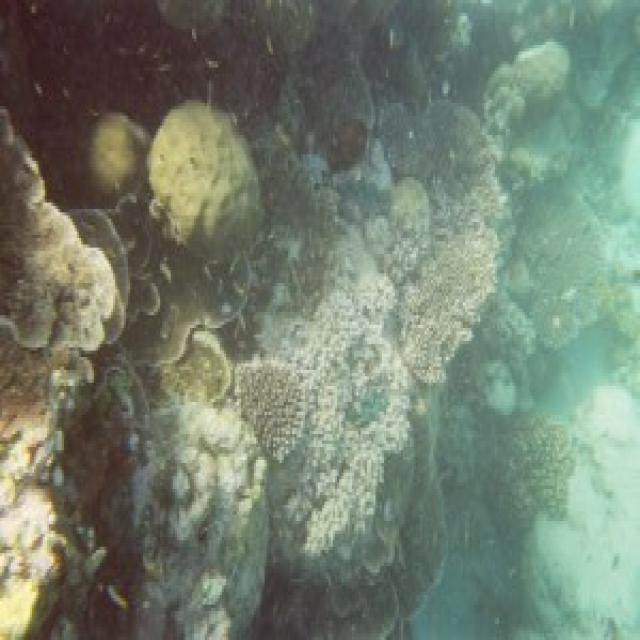Bleached: (242, 274, 413, 583), (389, 101, 507, 384), (133, 403, 266, 638), (487, 40, 630, 233), (554, 387, 640, 635), (485, 284, 592, 432)
